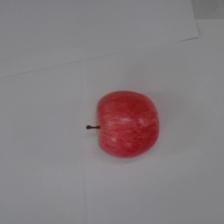red: (84, 88, 160, 161)
